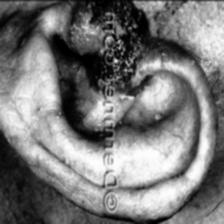Potentially Malignant Skin Tumors: (117, 0, 146, 92), (66, 0, 104, 50)
